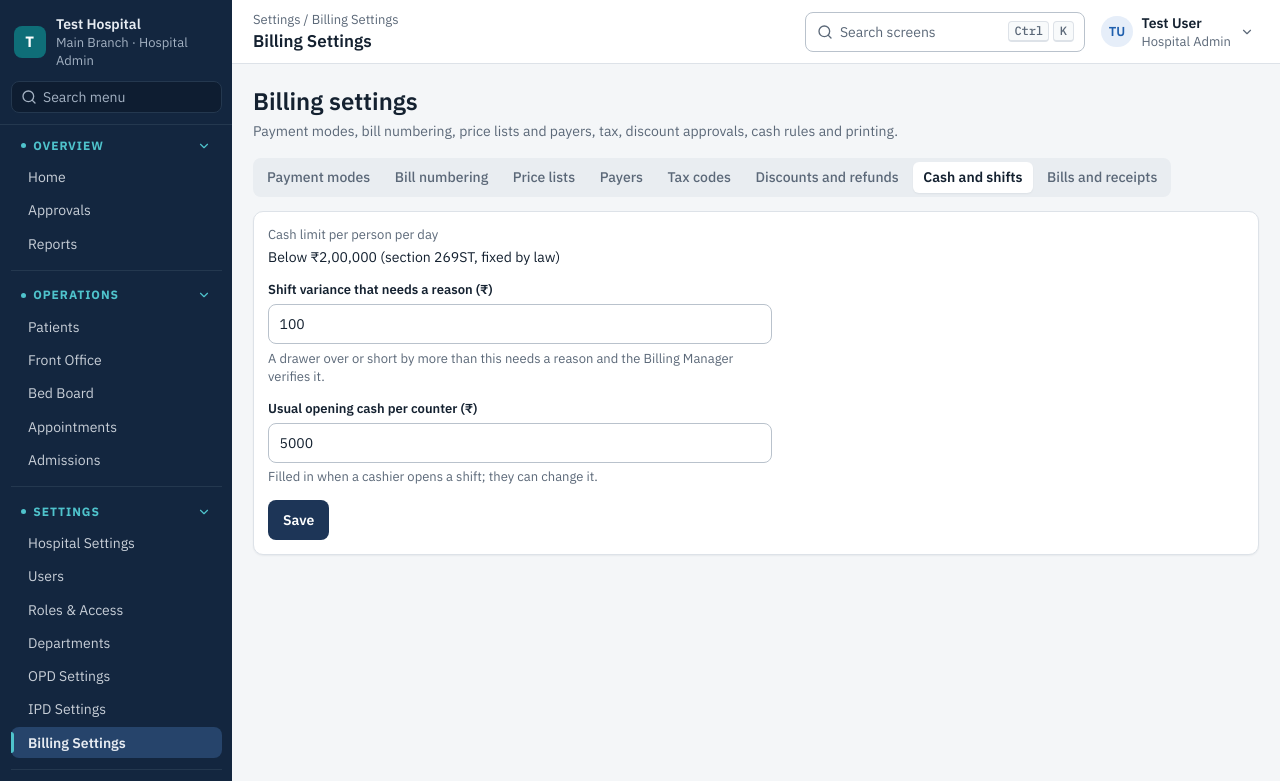
Test: Billing settings › saves cash rules in rupees with the version
Expected: the heading "Billing settings" is shown, [253,85,418,117]
Expected: the tab "Payment modes" is shown, [256,162,381,193]
Replace the text in the field labelled "Shift variance that needs a reason (₹)" with "250" at (520, 324), box [268,304,772,344]
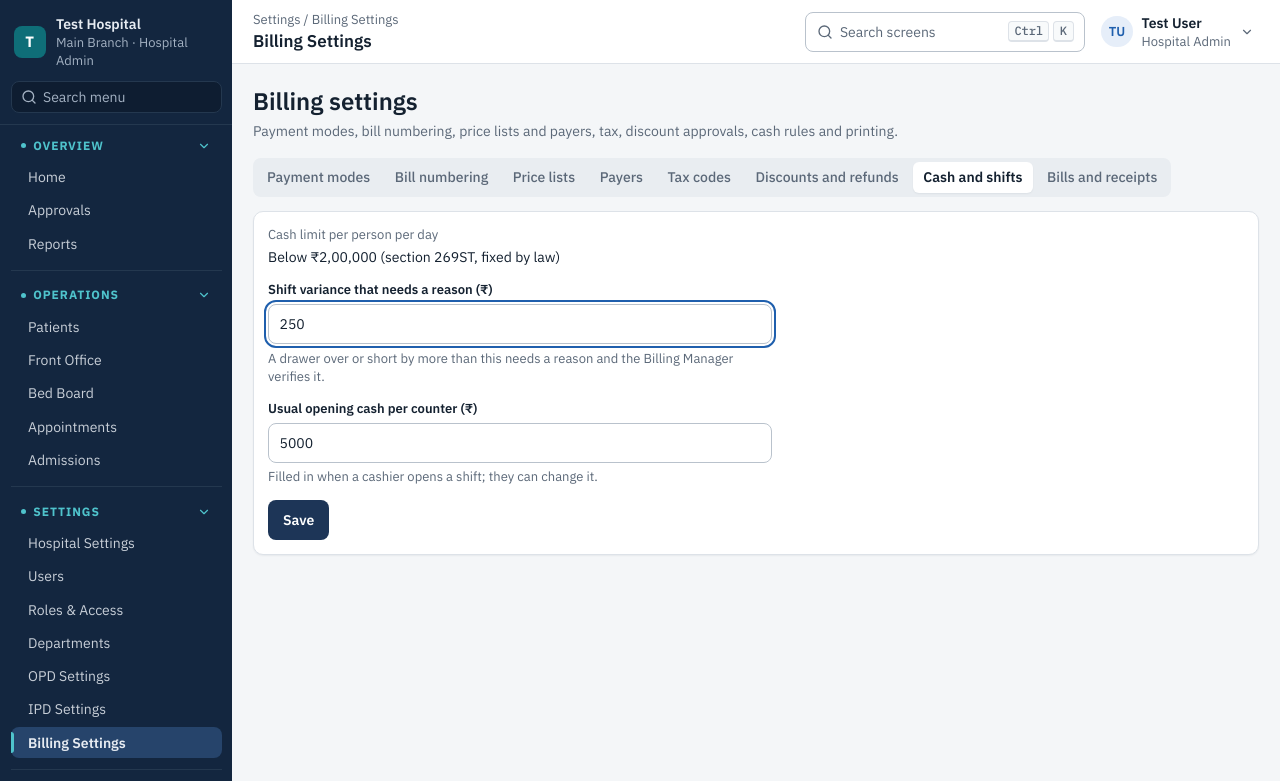
Click the button "Save".
click(299, 520)  # box [268,500,329,540]
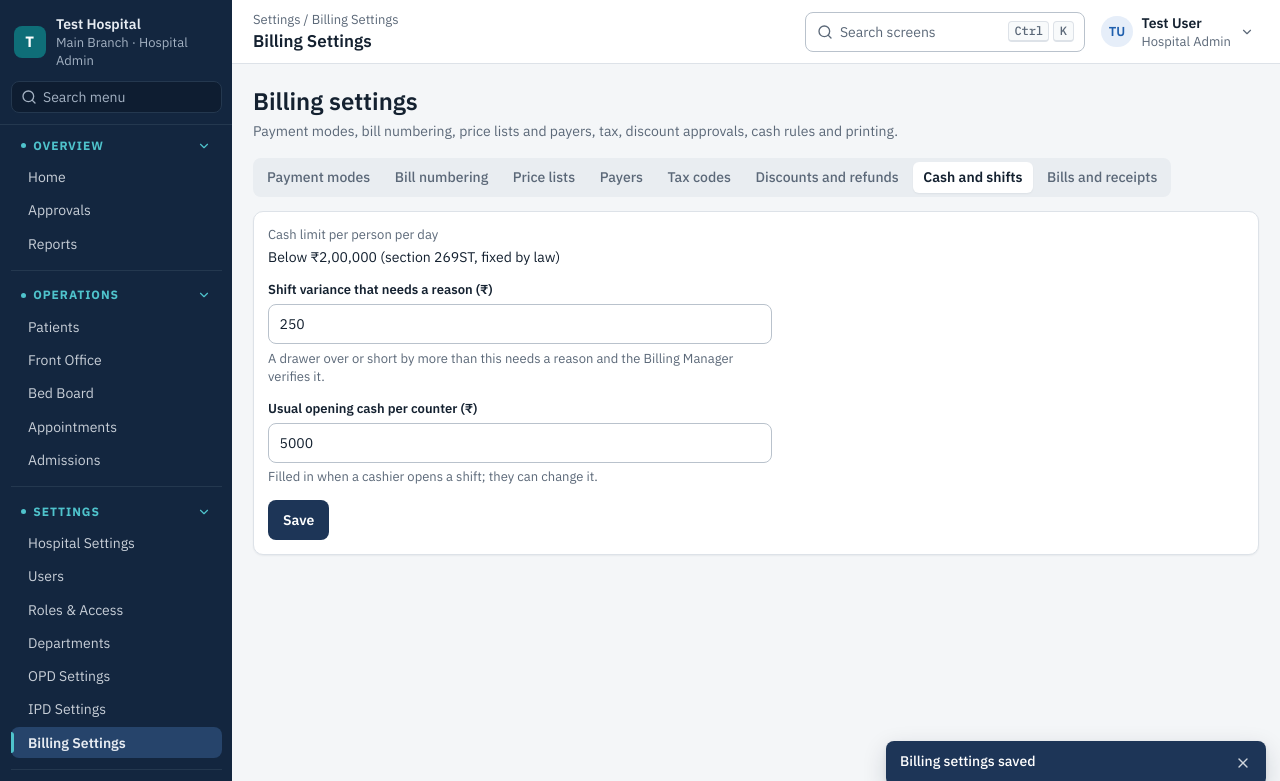
Result: the text "Billing settings saved" is shown at [900,752,1036,770]
